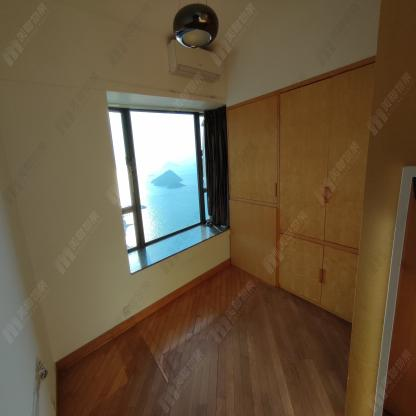AC: (167, 39, 222, 84)
Closet: (228, 55, 375, 328)
Windowsill: (105, 90, 229, 277)
